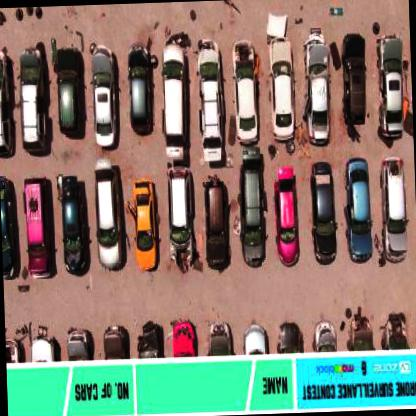car: (230, 51, 266, 263), (160, 43, 192, 230), (196, 46, 224, 171), (301, 30, 331, 145), (377, 155, 408, 263), (342, 158, 373, 262), (307, 159, 337, 263), (94, 161, 122, 271), (340, 32, 368, 142), (166, 164, 194, 272), (57, 173, 86, 273), (267, 39, 294, 144), (89, 43, 116, 148), (22, 176, 50, 276), (126, 43, 152, 136), (132, 176, 158, 268), (0, 43, 14, 158), (206, 319, 231, 352), (102, 325, 128, 356)
